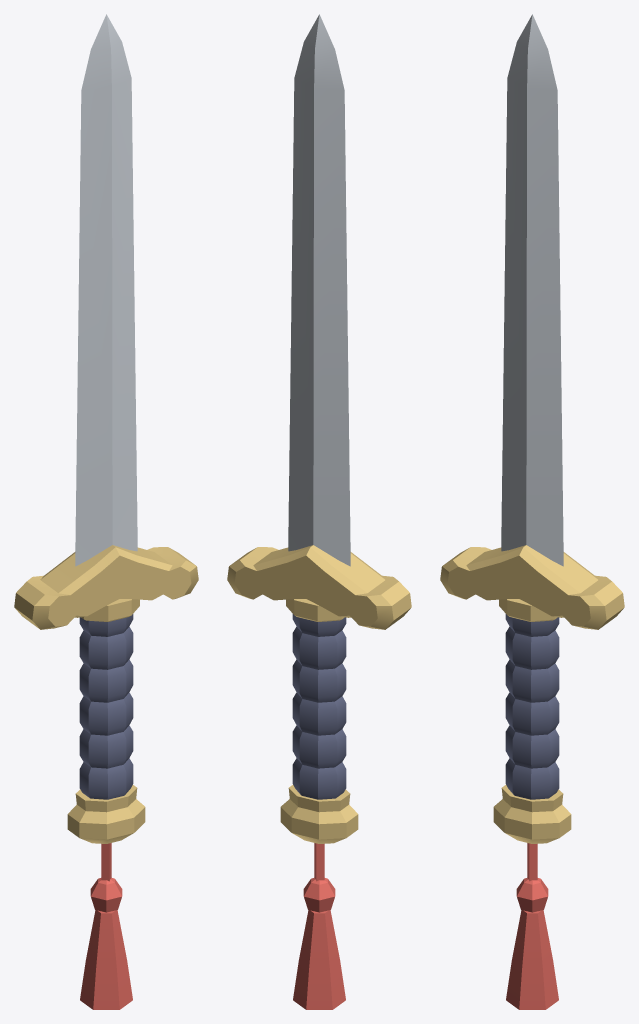
Rendered from Jian.fbx.
3 views of the same model, side by side, from view 1: azimuth 30°, elevation 25°; view 2: azimuth 150°, elevation 25°; view 3: azimuth 330°, elevation 25° (orthographic).
Parts seen in each view (by area): view 1: JianBlade, JianFittings, JianGrip, JianTassel; view 2: JianBlade, JianFittings, JianGrip, JianTassel; view 3: JianBlade, JianFittings, JianGrip, JianTassel.
Part boxes in pixels (box(x1,y1,x2,y2)): JianBlade: box(75, 14, 137, 566); JianFittings: box(14, 545, 198, 843); JianGrip: box(79, 614, 133, 799); JianTassel: box(80, 843, 132, 1009); JianBlade: box(288, 14, 350, 566); JianFittings: box(227, 545, 411, 843); JianGrip: box(292, 614, 346, 799); JianTassel: box(293, 843, 345, 1009); JianBlade: box(501, 14, 563, 566); JianFittings: box(440, 545, 624, 843); JianGrip: box(505, 614, 559, 799); JianTassel: box(506, 843, 558, 1009).
Bounding box in the file's own units: 0.7942 × 4.5 × 0.2356.
